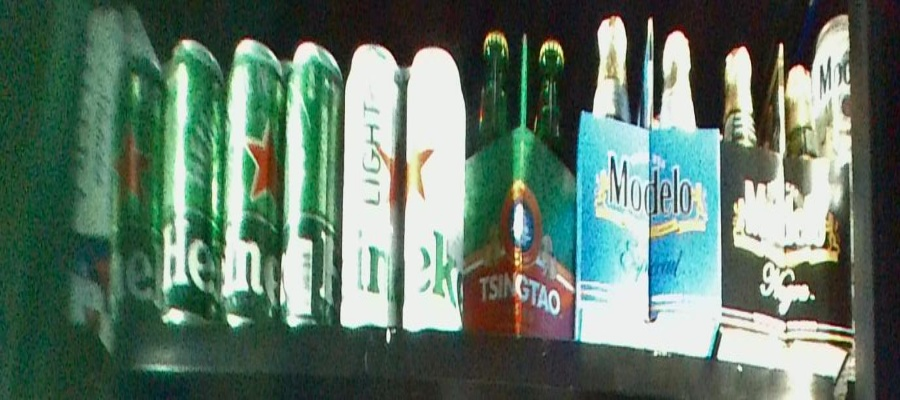bottle: (581, 13, 720, 357), (722, 29, 851, 389), (224, 37, 344, 323), (343, 40, 462, 324), (467, 31, 575, 337), (112, 49, 219, 336)
